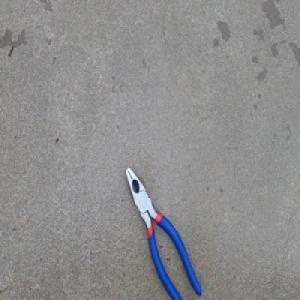Pliers: (124, 163, 202, 300)
